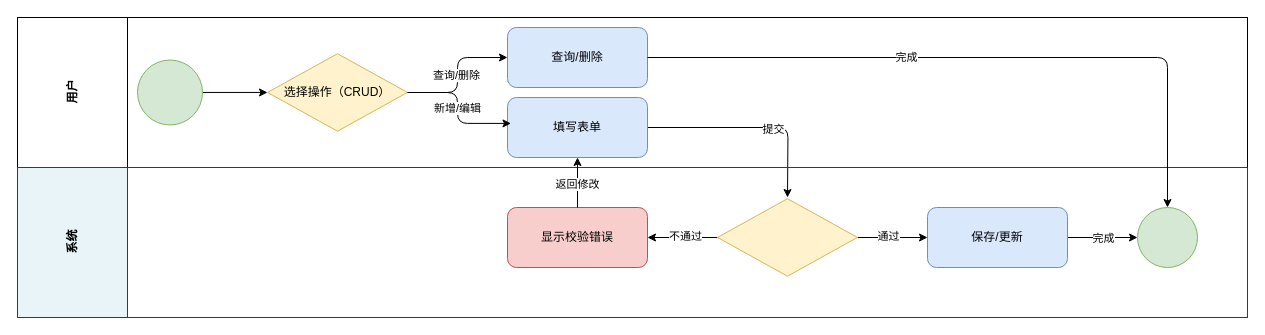
Some shapes in this 1265 by 335 pixel diagram are drawn without their labels. Each missing label, with the centre of its shape:
开始: point (169, 92)
必填字段校验: point (787, 237)
结果集返回: point (1167, 237)
